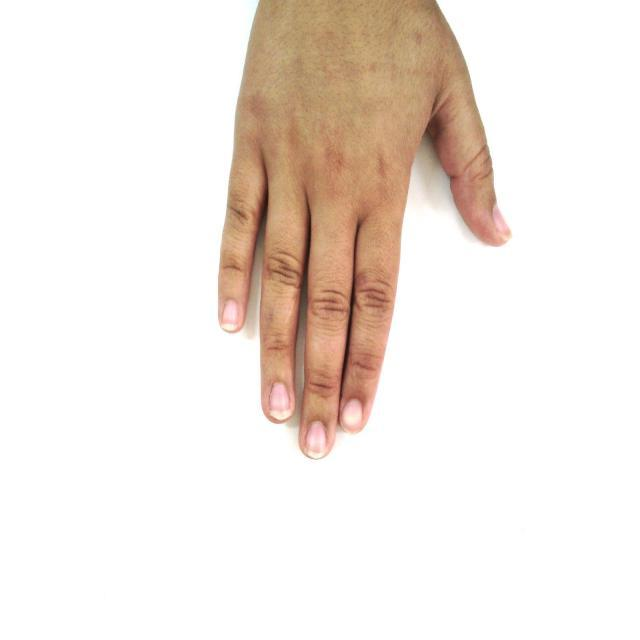Fingernail: (269, 383, 291, 421), (306, 421, 327, 458), (342, 399, 362, 431), (494, 207, 512, 238), (222, 301, 240, 330)
